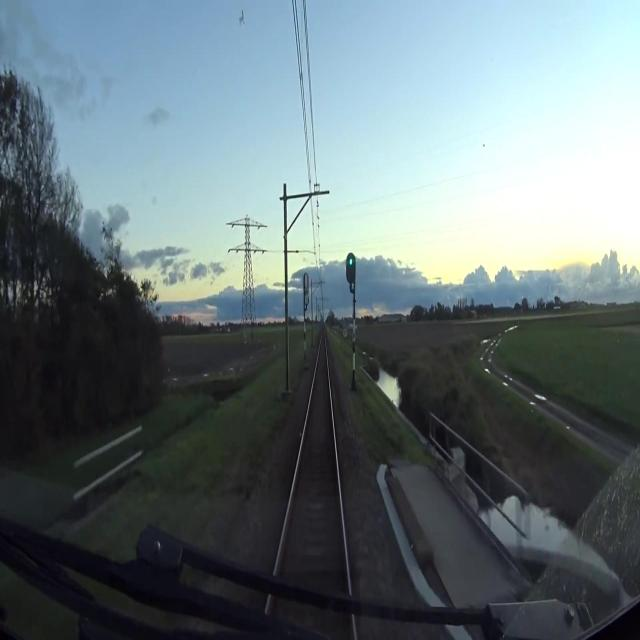rail-track: (276, 334, 349, 603)
